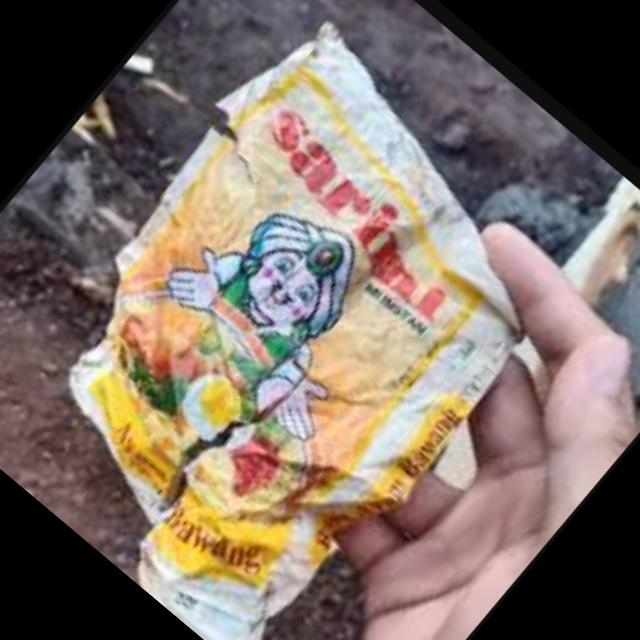KemasanPlastik: (0, 0, 611, 640)
